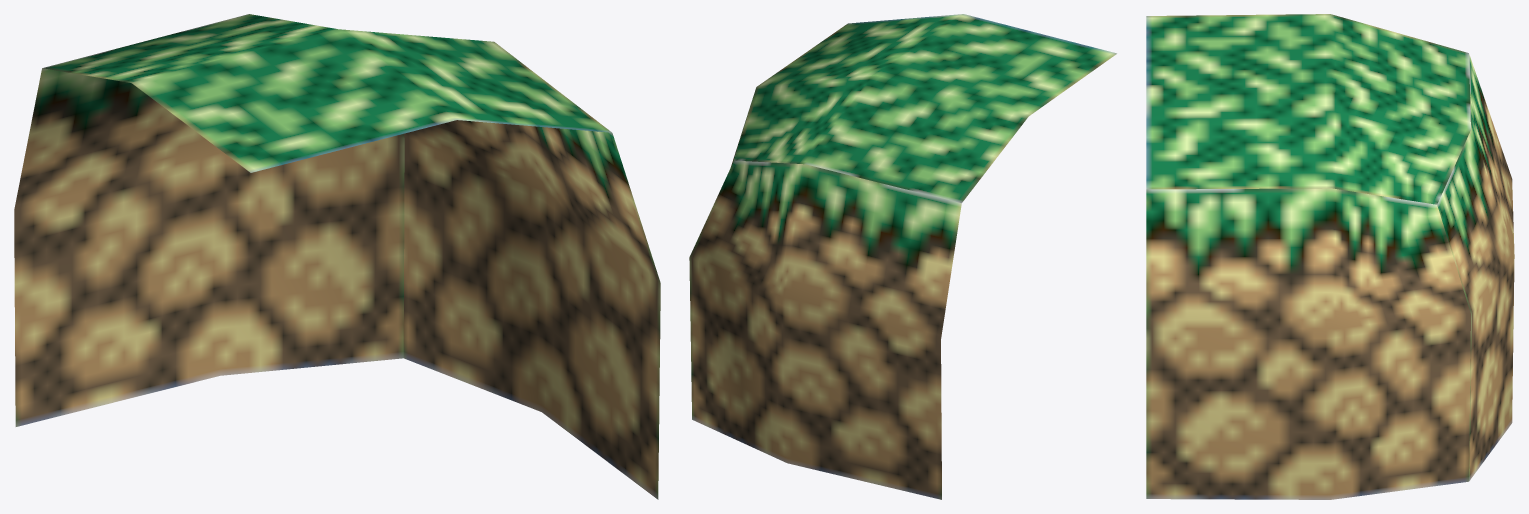
The model's file is grassDTile_groundCorner_upperRight.fbx.
The picture shows the model from 3 angles, left to right: view 1: azimuth 30°, elevation 25°; view 2: azimuth 150°, elevation 25°; view 3: azimuth 270°, elevation 25°; orthographic projection. The views are drawn at different scales.
Parts seen in each view (by area): view 1: grassDTile_groundCorner_upperRight; view 2: grassDTile_groundCorner_upperRight; view 3: grassDTile_groundCorner_upperRight.
Boxes of the visible parts, x1,y1,x2,y2 form: grassDTile_groundCorner_upperRight: (14, 14, 660, 499); grassDTile_groundCorner_upperRight: (689, 14, 1116, 499); grassDTile_groundCorner_upperRight: (1146, 14, 1514, 499).
Bounding box in the file's own units: 1.01 × 1.01 × 1.01.
